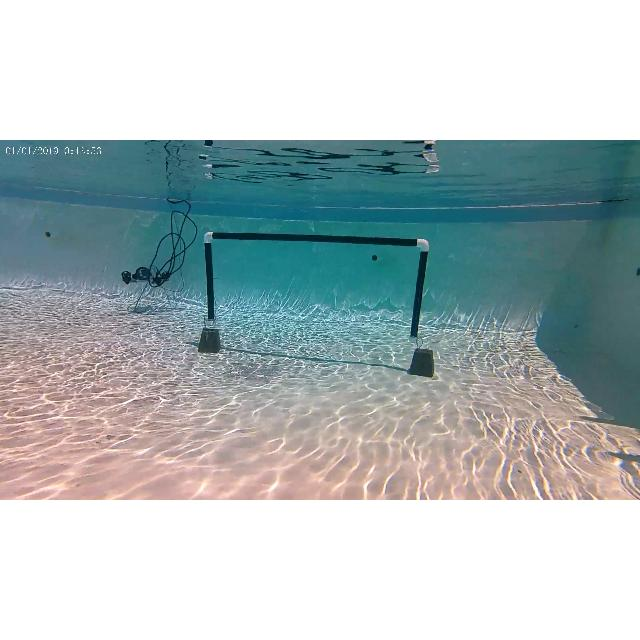prequal gate: (204, 232, 430, 342)
prequal gate leg l: (198, 230, 225, 352)
prequal gate leg r: (412, 236, 432, 370)
